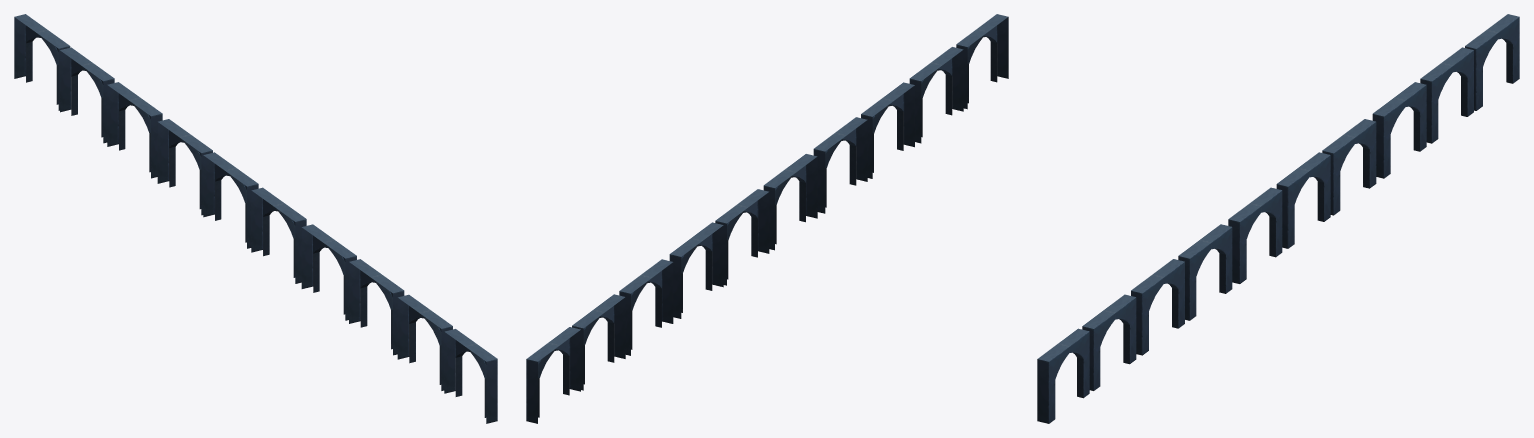
Rendered from Area_07_4.fbx.
3 renders of one model, left to right at view 1: azimuth 30°, elevation 25°; view 2: azimuth 150°, elevation 25°; view 3: azimuth 330°, elevation 25°, orthographic.
Parts seen in each view (by area): view 1: Area_07_4; view 2: Area_07_4; view 3: Area_07_4.
Part boxes in pixels (bbox=[...]): Area_07_4: bbox=[14, 14, 497, 423]; Area_07_4: bbox=[526, 14, 1008, 423]; Area_07_4: bbox=[1037, 14, 1519, 423].
Size of the model in its own units: 135 by 654 by 8985.
